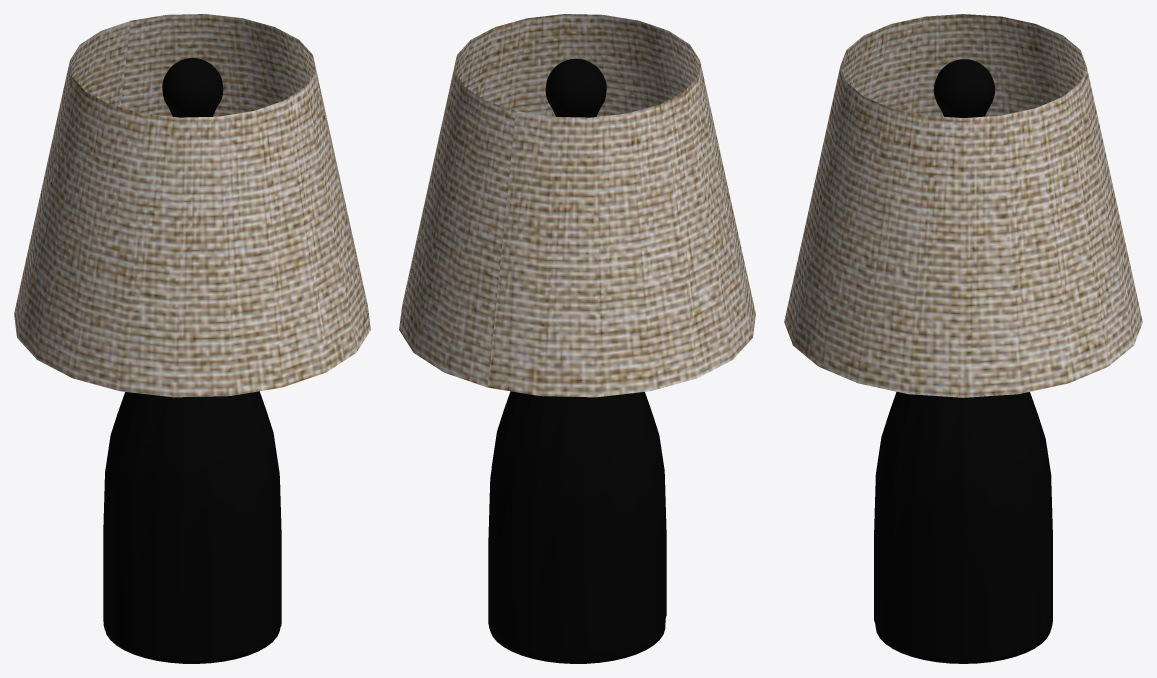
File: lamp.obj
3 views of the same model, side by side, from view 1: azimuth 30°, elevation 25°; view 2: azimuth 150°, elevation 25°; view 3: azimuth 270°, elevation 25° (orthographic).
Visible parts, largest first — view 1: lamp2:lamp lamp2:shade, lamp2:lamp lamp2:base, lamp2:bulb1 lamp2:lamp; view 2: lamp2:lamp lamp2:shade, lamp2:lamp lamp2:base, lamp2:bulb1 lamp2:lamp; view 3: lamp2:lamp lamp2:shade, lamp2:lamp lamp2:base, lamp2:bulb1 lamp2:lamp.
Boxes of the visible parts, x1,y1,x2,y2 form: lamp2:lamp lamp2:shade: (14,14,370,397); lamp2:lamp lamp2:base: (103,391,281,663); lamp2:bulb1 lamp2:lamp: (162,58,223,117); lamp2:lamp lamp2:shade: (399,14,755,397); lamp2:lamp lamp2:base: (488,391,666,663); lamp2:bulb1 lamp2:lamp: (545,58,606,117); lamp2:lamp lamp2:shade: (784,14,1142,397); lamp2:lamp lamp2:base: (874,392,1052,663); lamp2:bulb1 lamp2:lamp: (933,59,995,117).
Size of the model in its own units: 3.89 by 6.81 by 3.89.
